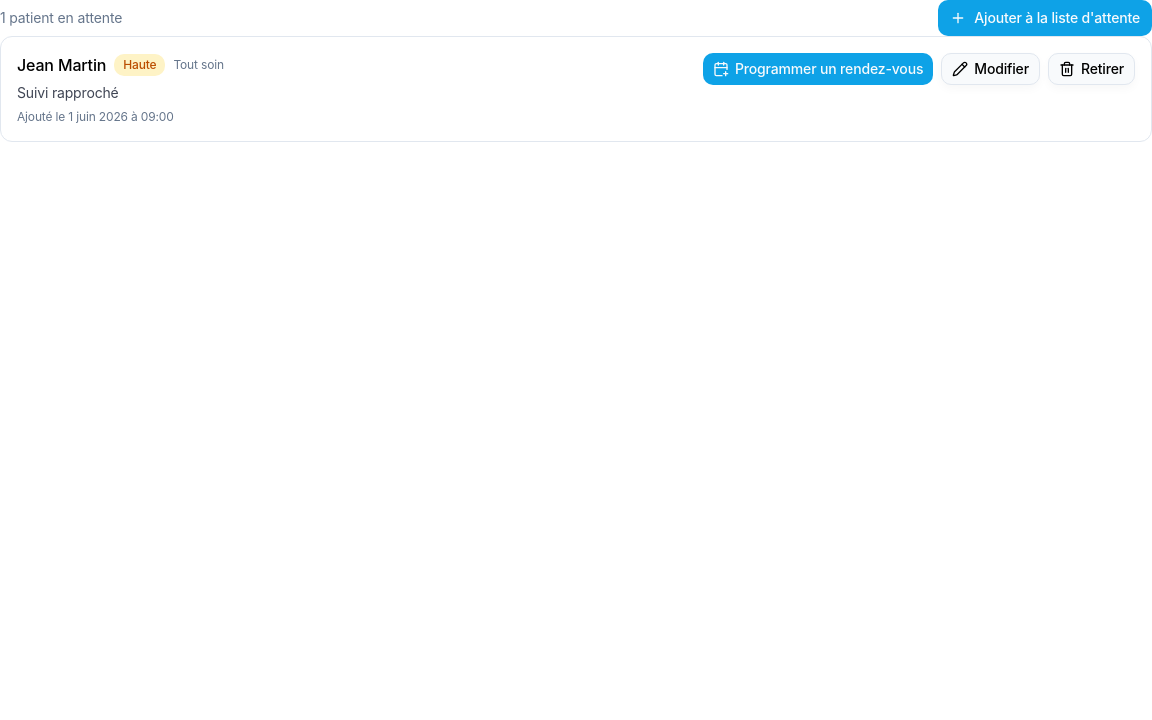
WaitlistView (Story 8.5) › édition : « Modifier » ouvre la modale pré-remplie (patient figé)
This screenshot has width=1152, height=720.
Click the button "Modifier". click: (991, 69)
box: top-left (941, 53), bottom-right (1040, 85)
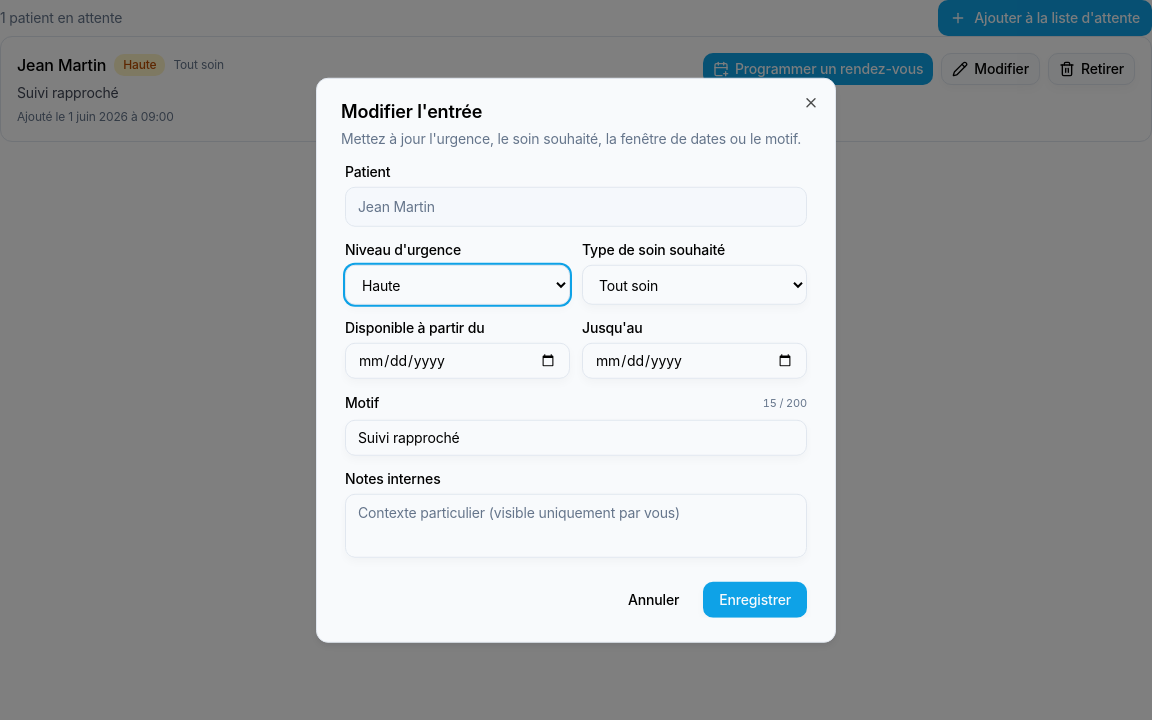
Now the heading "Modifier l'entrée" is shown, box top-left (341, 101), bottom-right (482, 122)
Now the field showing "Suivi rapproché" is shown, box top-left (345, 419), bottom-right (807, 455)
